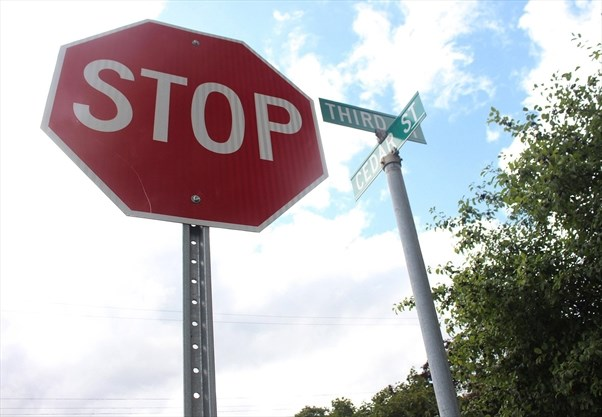stop: (39, 18, 328, 234), (41, 17, 329, 211), (41, 17, 282, 234), (112, 18, 329, 237), (40, 18, 245, 182)
